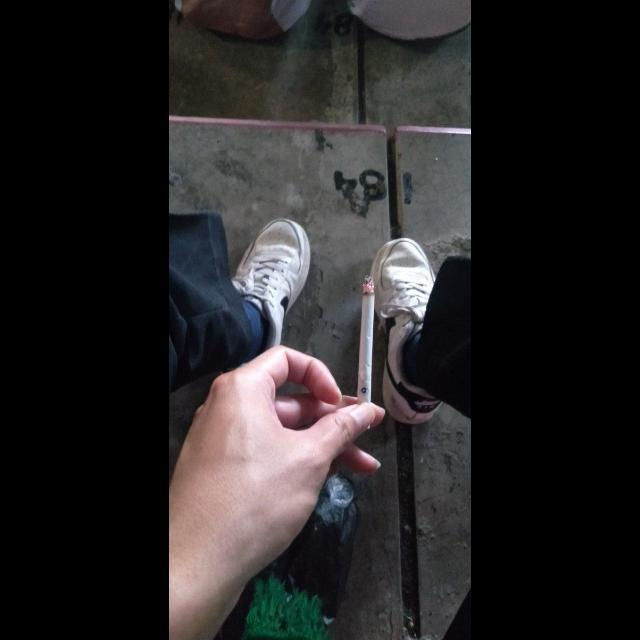rokok: (360, 278, 378, 400)
